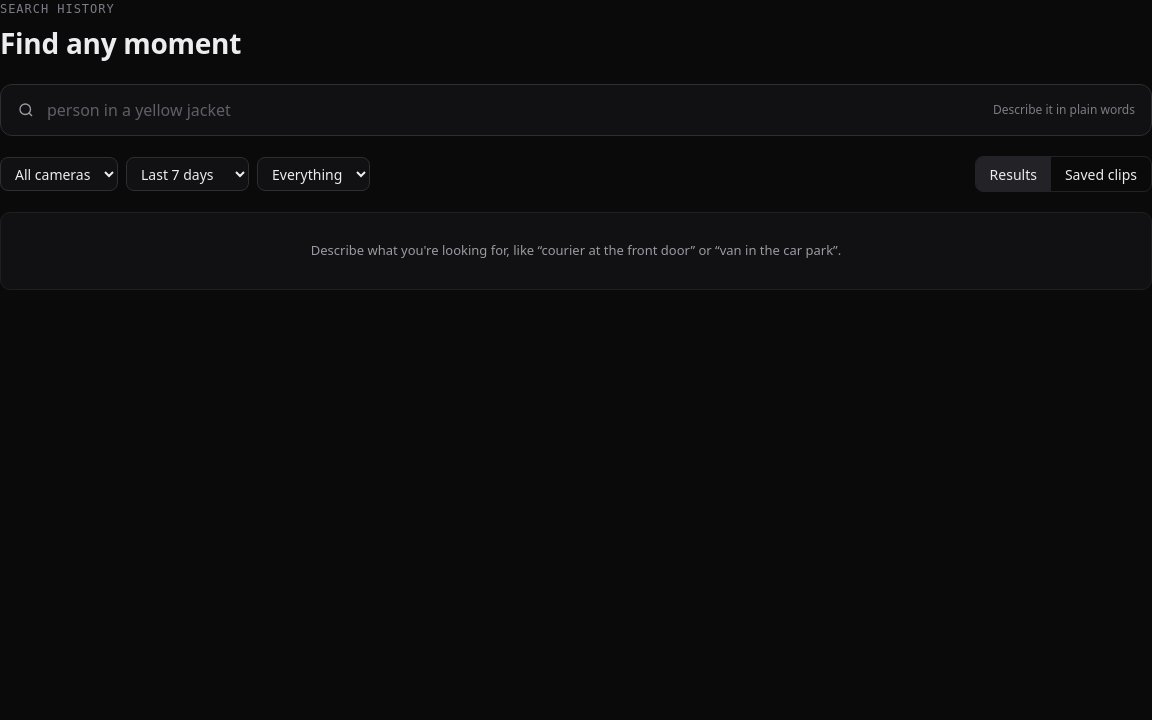
SearchPage › lists saved clips and deletes one after confirming
Click the tab "Saved clips": coordinates (1101, 174) [1051,157,1151,191]
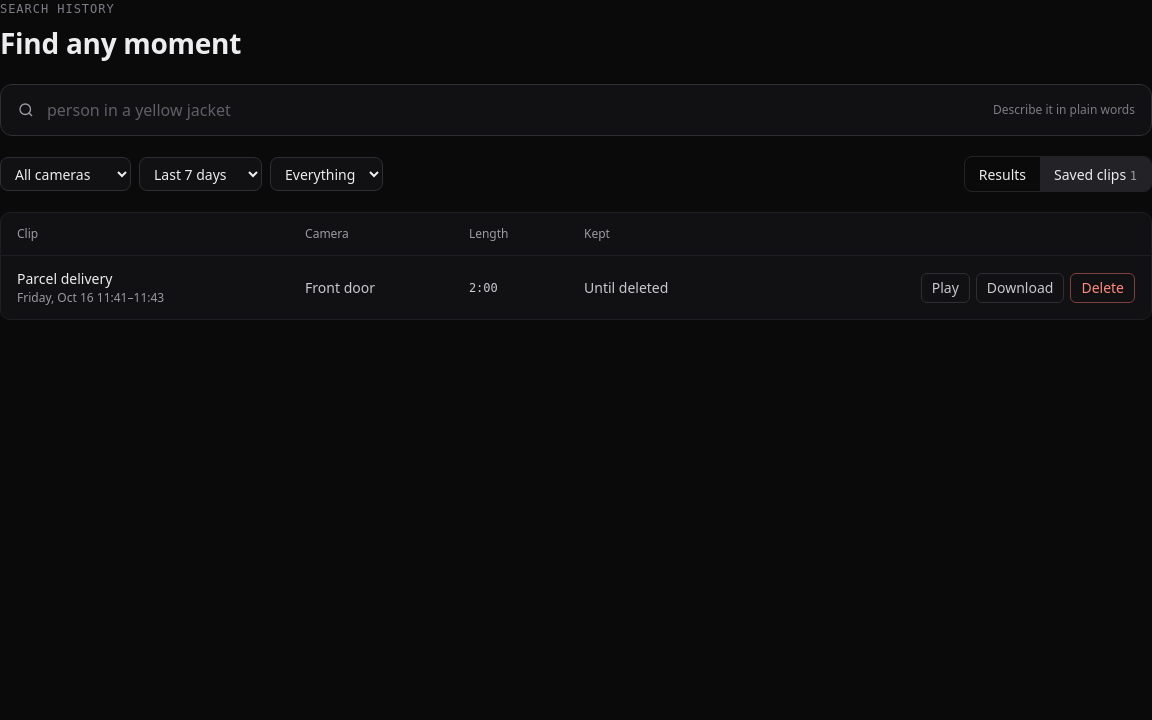
Result: the text "Parcel delivery" is shown at [17,269,112,288]
Result: the text "2:00" is shown at [453,256,568,319]
Click the button with aria-label "Delete Parcel delivery": coordinates (1103, 288) [1070,272,1135,302]
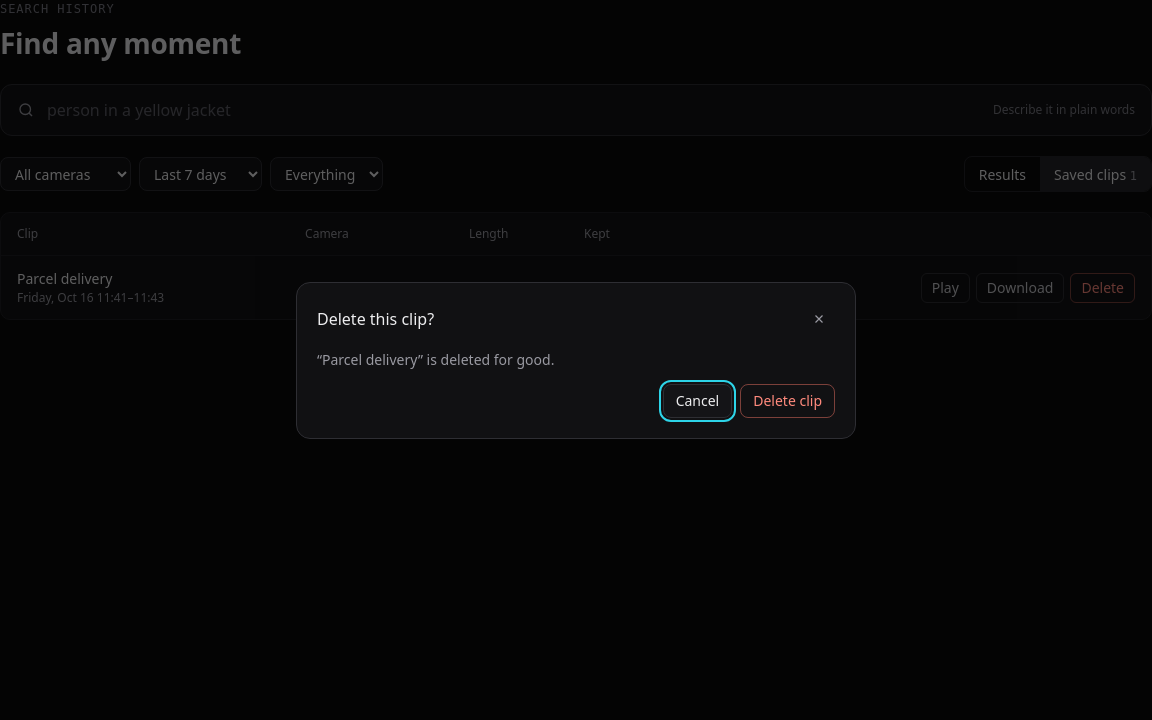
Click the button "Delete clip": coordinates (788, 400) [740,384,835,418]
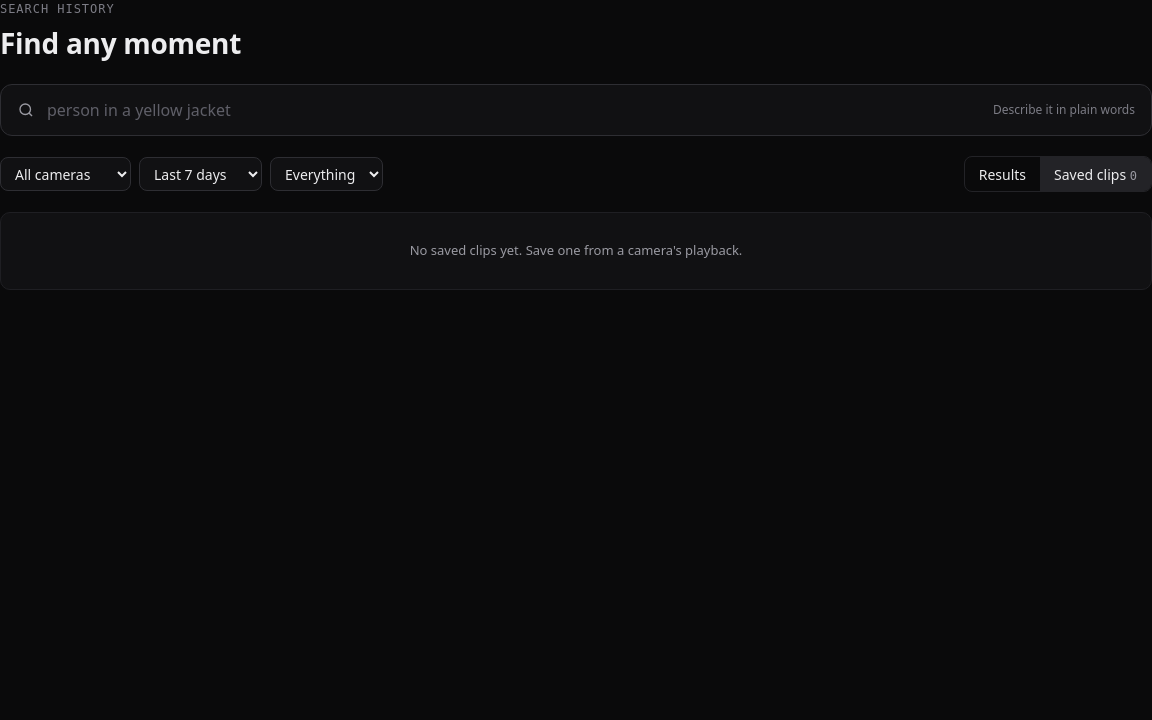
Result: the text "Parcel delivery" is gone
